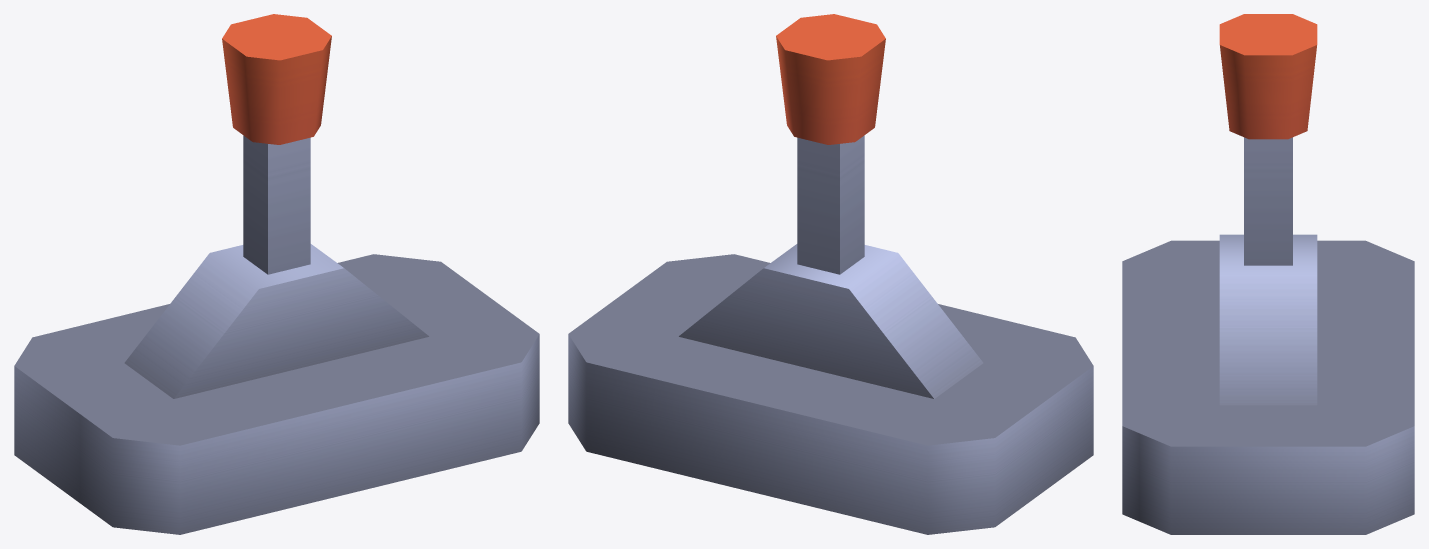
The model's file is lever-single.fbx.
The picture shows the model from 3 angles, left to right: view 1: azimuth 30°, elevation 25°; view 2: azimuth 150°, elevation 25°; view 3: azimuth 270°, elevation 25°; orthographic projection.
Parts seen in each view (by area): view 1: lever-single, handle; view 2: lever-single, handle; view 3: lever-single, handle.
Boxes of the visible parts, x1,y1,x2,y2 form: lever-single: [14, 244, 539, 534]; handle: [222, 14, 331, 274]; lever-single: [568, 244, 1093, 534]; handle: [776, 14, 885, 274]; lever-single: [1122, 234, 1414, 534]; handle: [1219, 14, 1317, 265].
Size of the model in its own units: 50 by 45 by 30.
